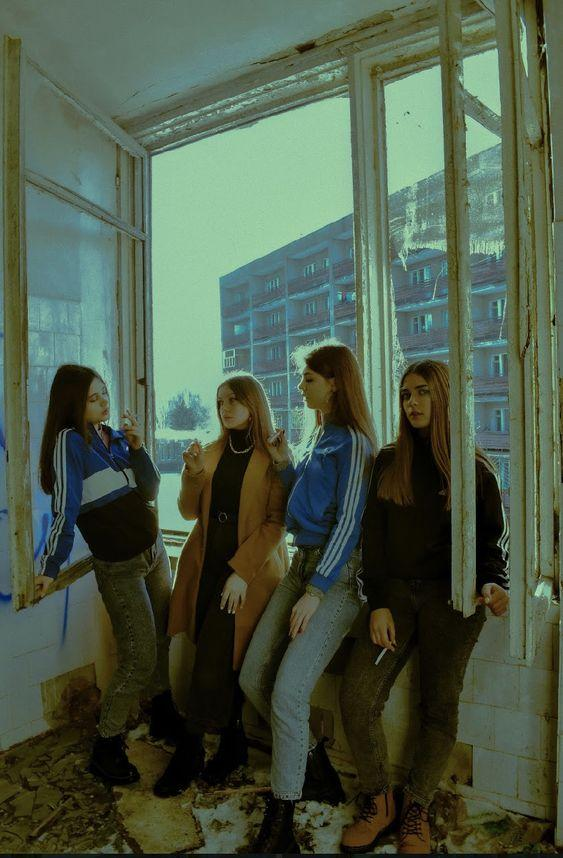cigarette: (268, 429, 284, 443), (375, 648, 387, 665)
